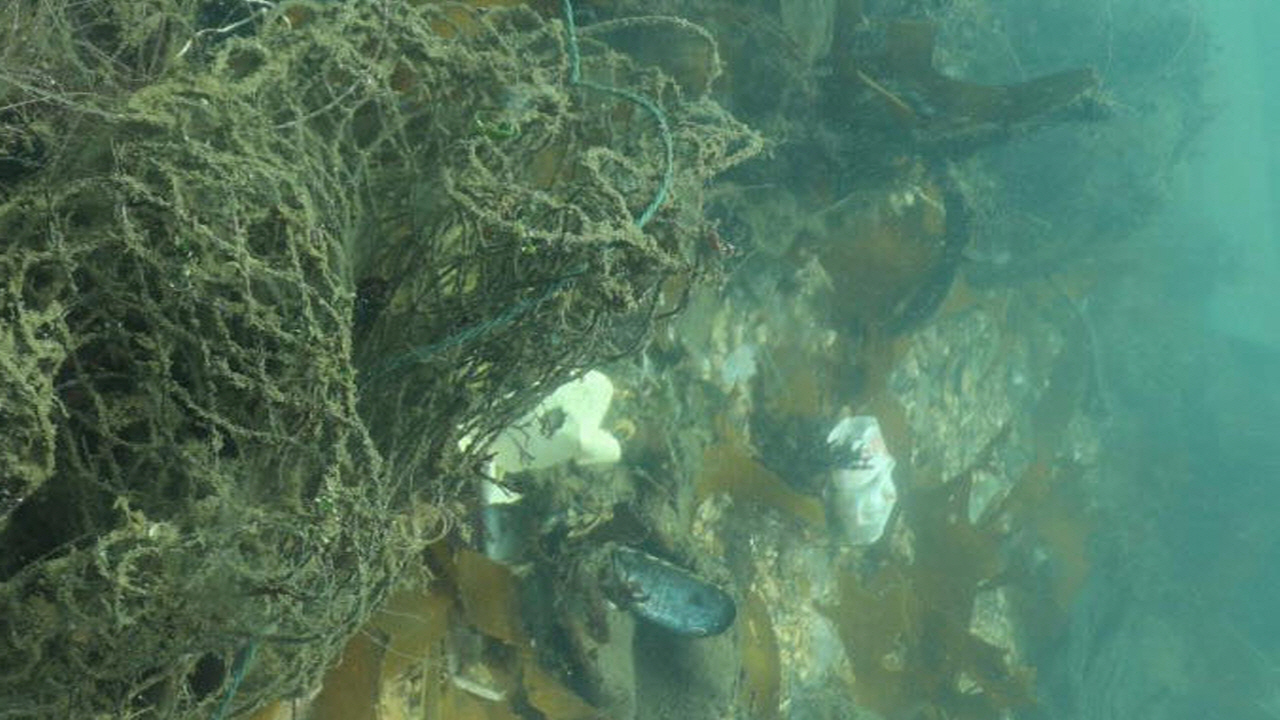fish net: (0, 0, 765, 720)
